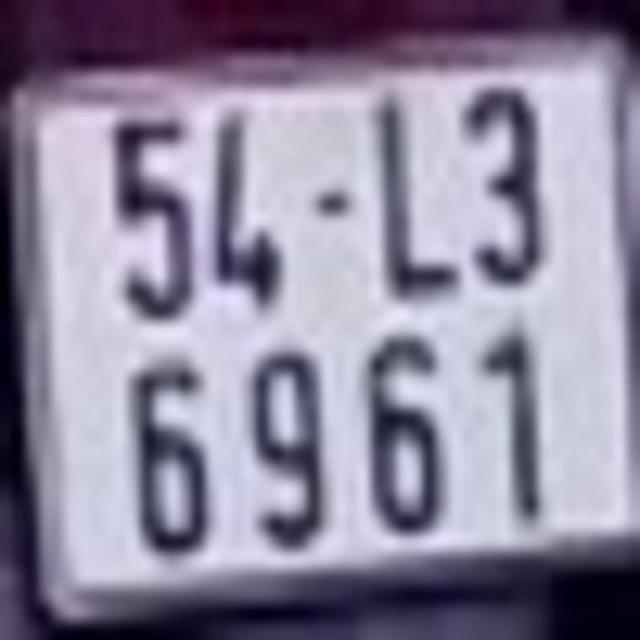1: (484, 330, 543, 520)
3: (461, 80, 546, 285)
4: (204, 110, 278, 312)
5: (114, 123, 198, 324)
6: (360, 330, 443, 528), (127, 347, 206, 552)
9: (248, 343, 324, 556)
L: (373, 81, 467, 298)
